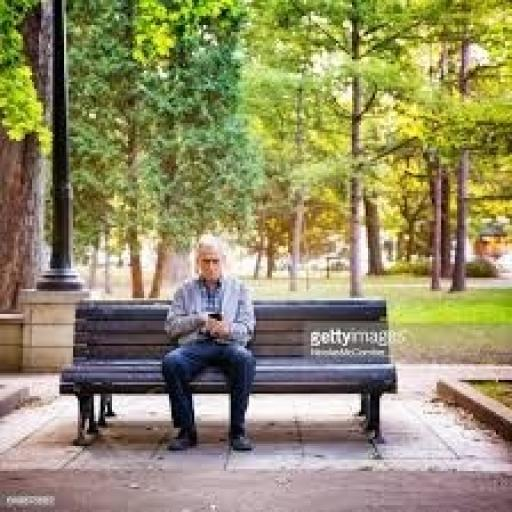sitting: (158, 232, 260, 453)
